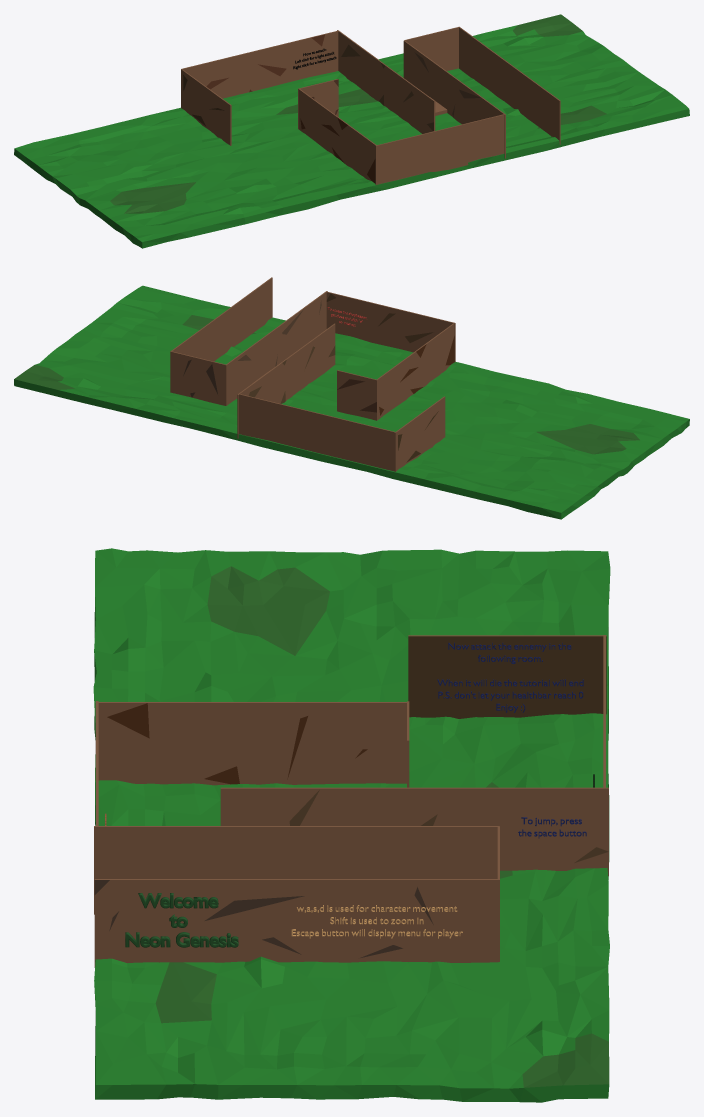
The model's file is Tutorial2.fbx.
The picture shows the model from 3 angles, top to bottom: view 1: azimuth 30°, elevation 25°; view 2: azimuth 150°, elevation 25°; view 3: azimuth 270°, elevation 25°; orthographic projection. The views are drawn at different scales.
Parts seen in each view (by area): view 1: Plane; view 2: Plane; view 3: Plane, Text, Text.006, Text.001.
Boxes of the visible parts, box(x1,y1,x2,y2) form: Plane: box(14, 14, 689, 248); Plane: box(14, 277, 689, 519); Plane: box(93, 548, 610, 1102); Text: box(125, 893, 238, 947); Text.006: box(437, 642, 583, 712); Text.001: box(291, 905, 462, 938).
Size of the model in its own units: 72378 by 6486 by 29502.
